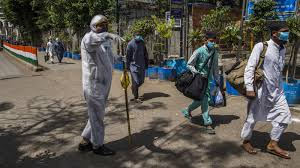mask: (88, 13, 106, 38), (271, 22, 289, 44), (203, 32, 217, 51), (133, 30, 144, 42), (47, 36, 52, 42), (55, 38, 60, 44)
